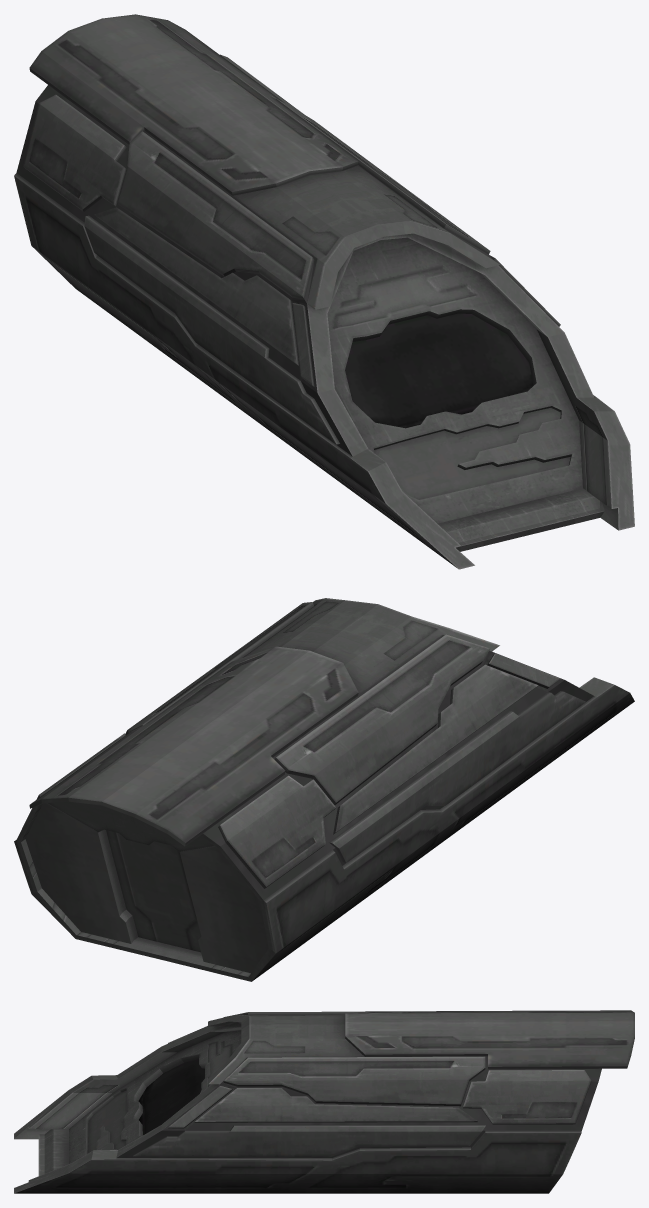
Rendered from PuddleJumper.obj.
3 renders of one model, top to bottom at view 1: azimuth 30°, elevation 25°; view 2: azimuth 150°, elevation 25°; view 3: azimuth 270°, elevation 25°, orthographic. The views are drawn at different scales.
Parts seen in each view (by area): view 1: PuddleJumper; view 2: PuddleJumper; view 3: PuddleJumper.
Part boxes in pixels (bbox=[...]): PuddleJumper: bbox=[14, 14, 634, 569]; PuddleJumper: bbox=[14, 598, 634, 981]; PuddleJumper: bbox=[14, 1010, 634, 1193].
Bounding box in the file's own units: 9.55 × 7.3 × 28.89.
1 material, 1 textured.
